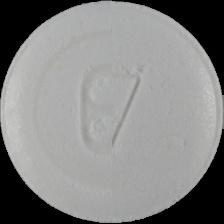63187-266: (0, 0, 224, 224)
